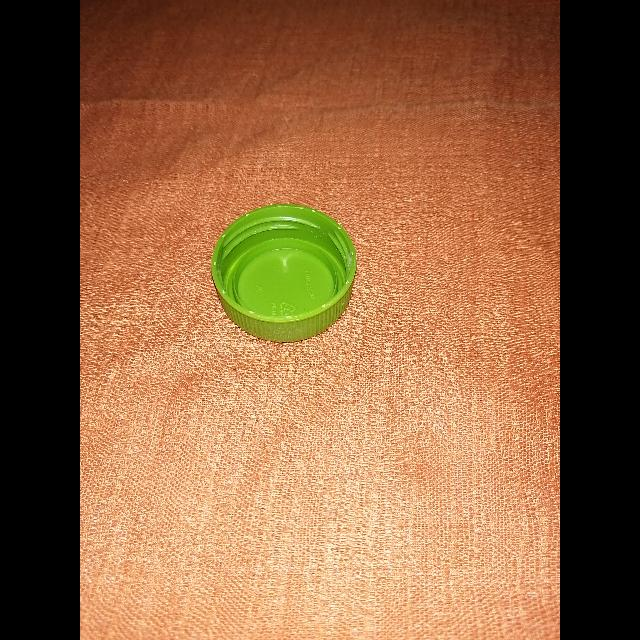plastic_bottle_cap: (211, 204, 355, 342)
